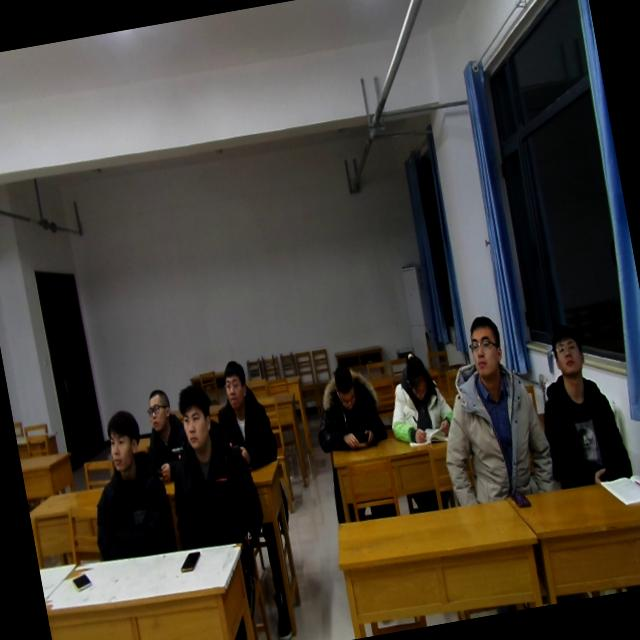down: (327, 355, 361, 416), (398, 344, 432, 402)
lookup: (169, 379, 219, 461), (459, 306, 508, 382), (99, 407, 148, 480), (543, 320, 592, 382), (215, 355, 253, 412), (138, 382, 176, 437)
sit: (418, 306, 559, 507), (528, 314, 632, 490), (156, 382, 264, 550), (70, 402, 180, 560), (378, 329, 454, 453), (304, 354, 386, 462), (207, 357, 280, 472), (136, 384, 190, 468)
